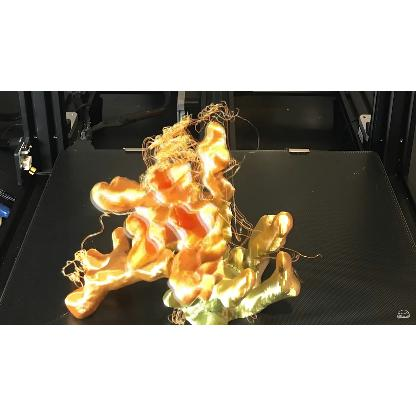fail: (196, 99, 240, 123), (234, 202, 250, 240)
